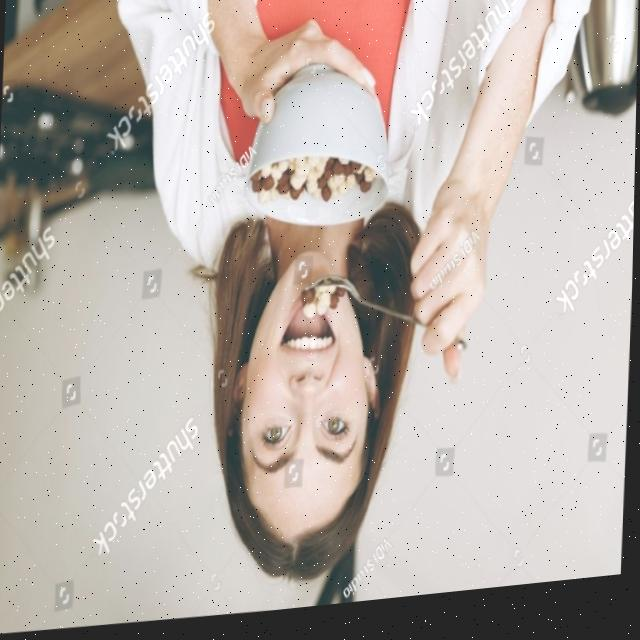eating-person: (95, 0, 603, 623)
